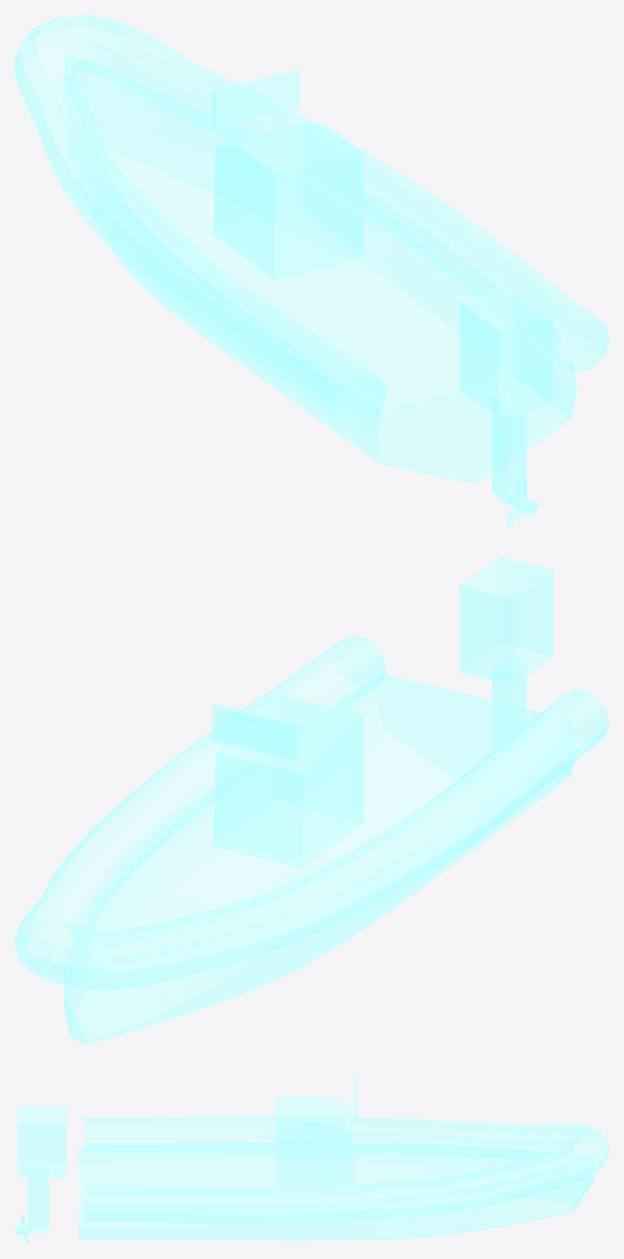
The model's file is gommone.glb.
3 renders of one model, top to bottom at view 1: azimuth 30°, elevation 25°; view 2: azimuth 150°, elevation 25°; view 3: azimuth 270°, elevation 25°, orthographic. The views are drawn at different scales.
Parts seen in each view (by area): view 1: Gommone_Hull_Core, Gommone_Tubes_Core, Gommone_Console_Core, Gommone_Outboard, Gommone_Outboard_Leg, Gommone_Windscreen; view 2: Gommone_Hull_Core, Gommone_Tubes_Core, Gommone_Console_Core, Gommone_Outboard, Gommone_Windscreen, Gommone_Outboard_Leg; view 3: Gommone_Hull_Core, Gommone_Tubes_Core, Gommone_Console_Core, Gommone_Outboard, Gommone_Outboard_Leg.
Boxes of the visible parts, box(x1,y1,x2,y2) form: Gommone_Hull_Core: box(64, 53, 577, 483); Gommone_Tubes_Core: box(14, 14, 609, 427); Gommone_Console_Core: box(213, 124, 363, 280); Gommone_Outboard: box(459, 289, 553, 418); Gommone_Outboard_Leg: box(492, 391, 526, 505); Gommone_Windscreen: box(212, 69, 299, 127); Gommone_Hull_Core: box(64, 673, 576, 1044); Gommone_Tubes_Core: box(14, 635, 609, 990); Gommone_Console_Core: box(213, 693, 363, 867); Gommone_Outboard: box(459, 556, 553, 685); Gommone_Windscreen: box(212, 703, 299, 761); Gommone_Outboard_Leg: box(492, 655, 526, 751); Gommone_Hull_Core: box(78, 1141, 593, 1240); Gommone_Tubes_Core: box(84, 1115, 609, 1225); Gommone_Console_Core: box(276, 1095, 353, 1187); Gommone_Outboard: box(17, 1106, 66, 1177); Gommone_Outboard_Leg: box(27, 1167, 48, 1233).
Bounding box in the file's own units: 2.94 × 2.4 × 8.41.
